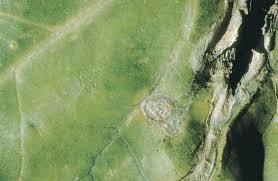Bok-Choy-Diseased: (1, 2, 278, 181)
